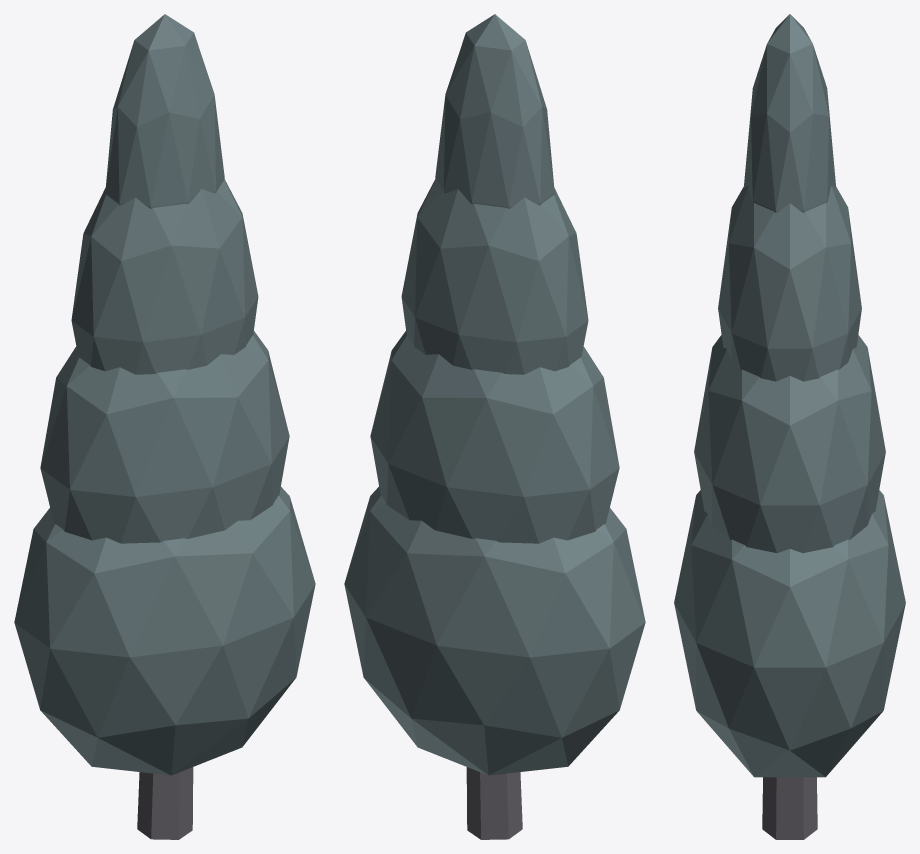
The model's file is map-exclusive-v3__grave_02.glb.
The picture shows the model from 3 angles, left to right: view 1: azimuth 30°, elevation 25°; view 2: azimuth 150°, elevation 25°; view 3: azimuth 270°, elevation 25°; orthographic projection.
Visible parts, largest first — view 1: grave_02; view 2: grave_02; view 3: grave_02.
Boxes of the visible parts, x1=… form: grave_02: x1=14, y1=14, x2=315, y2=839; grave_02: x1=344, y1=14, x2=645, y2=839; grave_02: x1=674, y1=14, x2=905, y2=839.
Bounding box in the file's own units: 1.1 × 3.24 × 0.8351.
